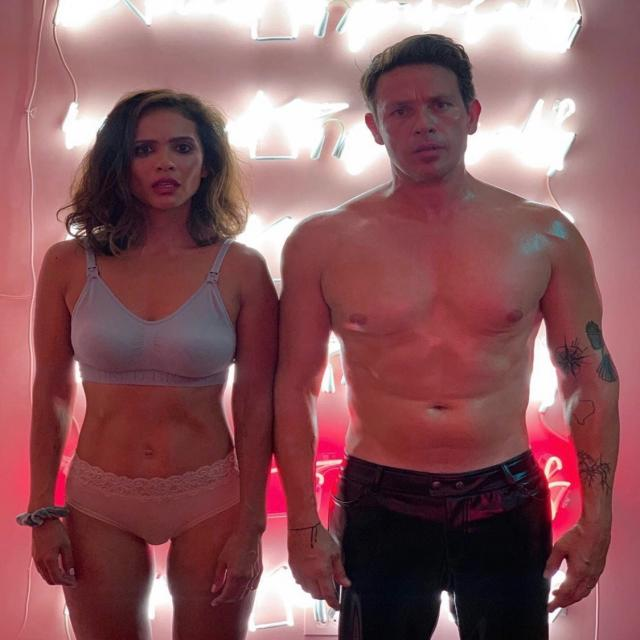adult: (278, 29, 621, 640), (14, 88, 276, 640)
